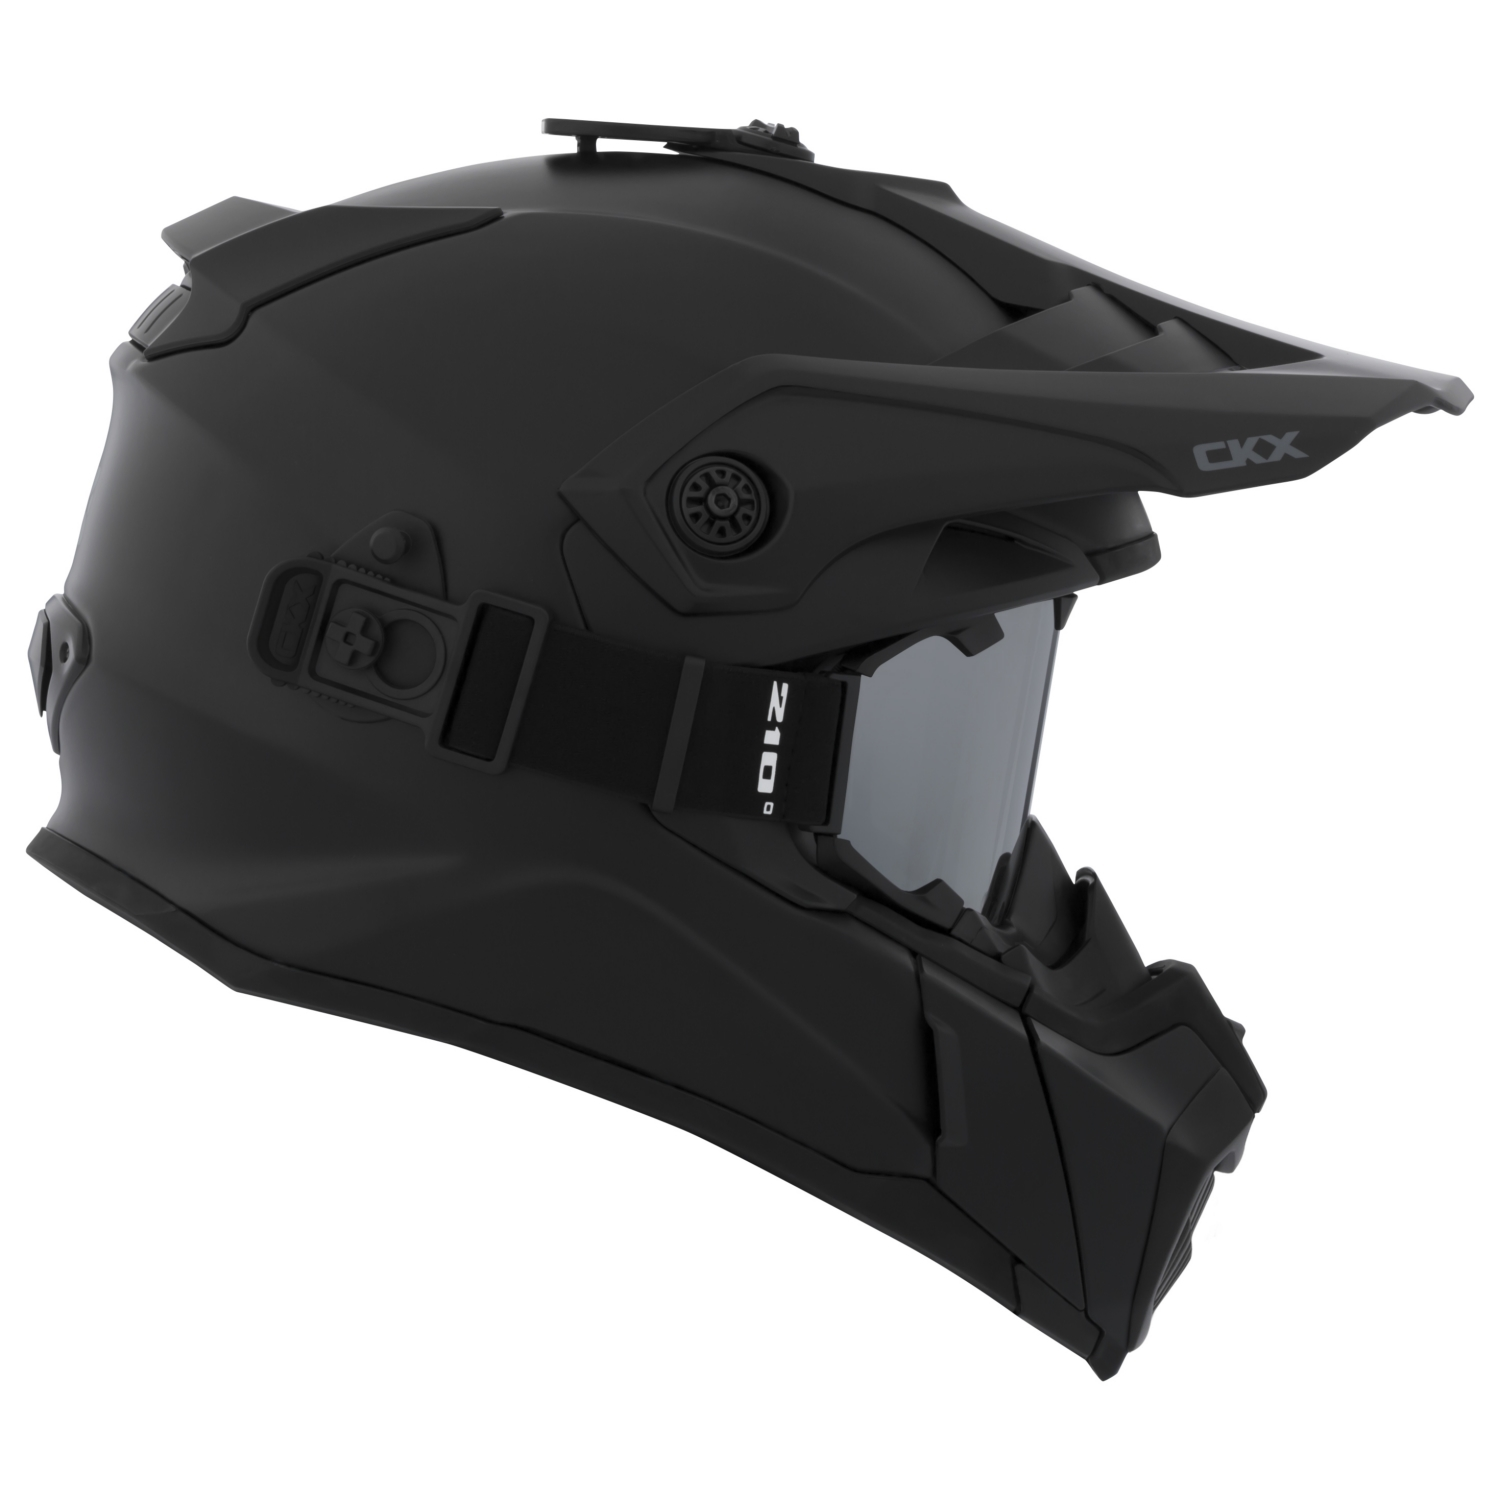with_helmet: (19, 81, 1473, 1400)
